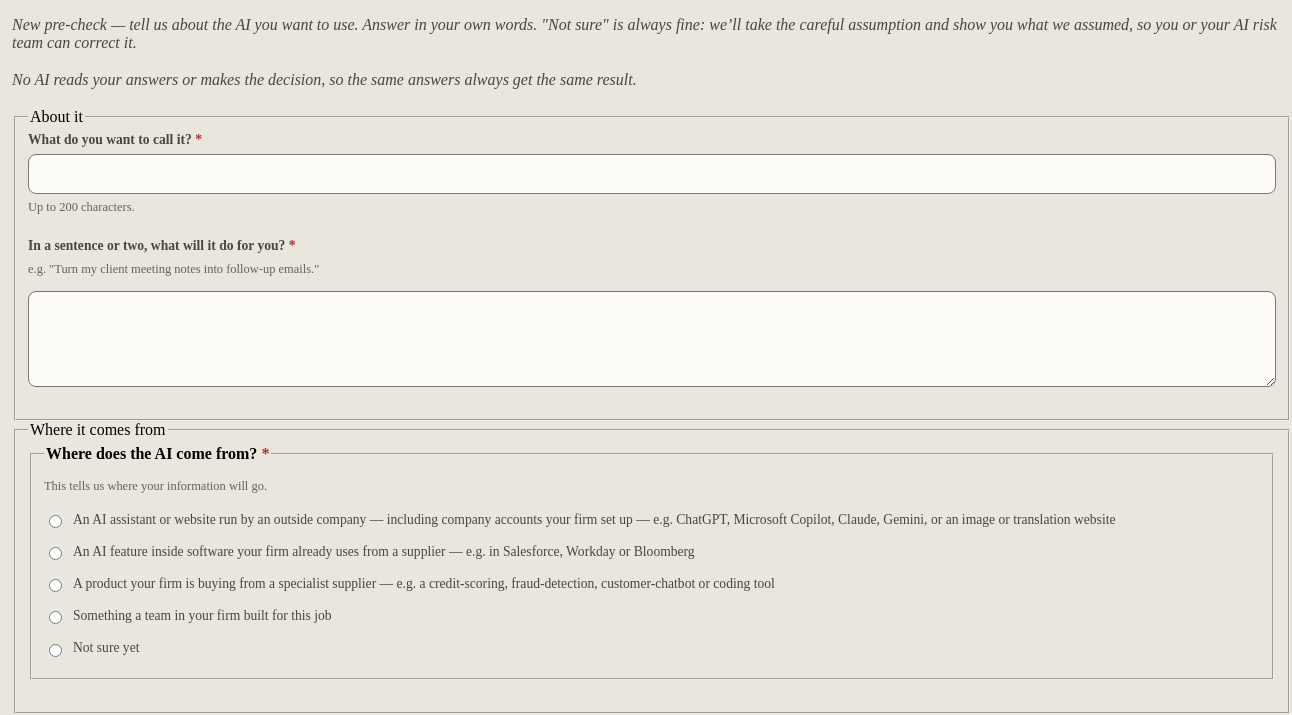
Test: StructuredForm — never-render-[FIRM] fallback labels (D-23) › a supplier with no plain_name shows "Supplier {n}"
Click the radio button labelled "A product your firm is buying from a specialist supplier" at (56, 586), box [49,579,62,592]
(page scrolled)
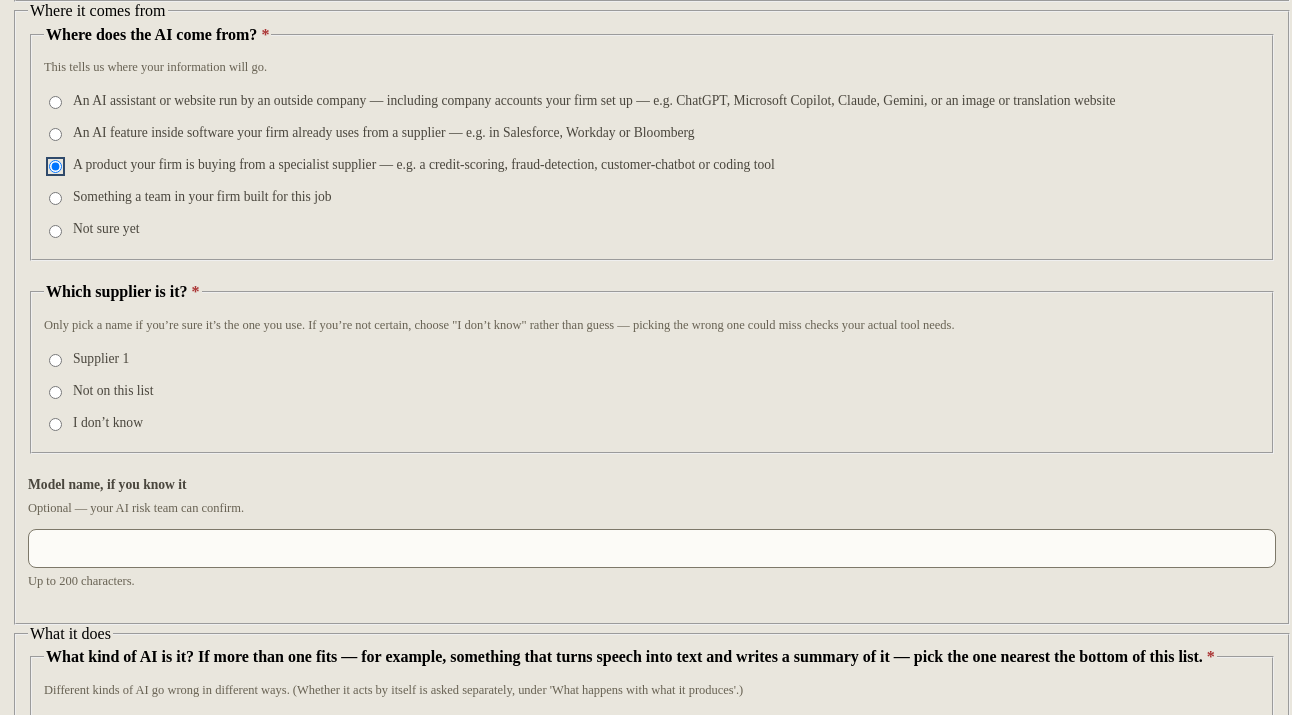
Expected: the radio button labelled "Supplier 1" is shown, [49,354,62,367]
